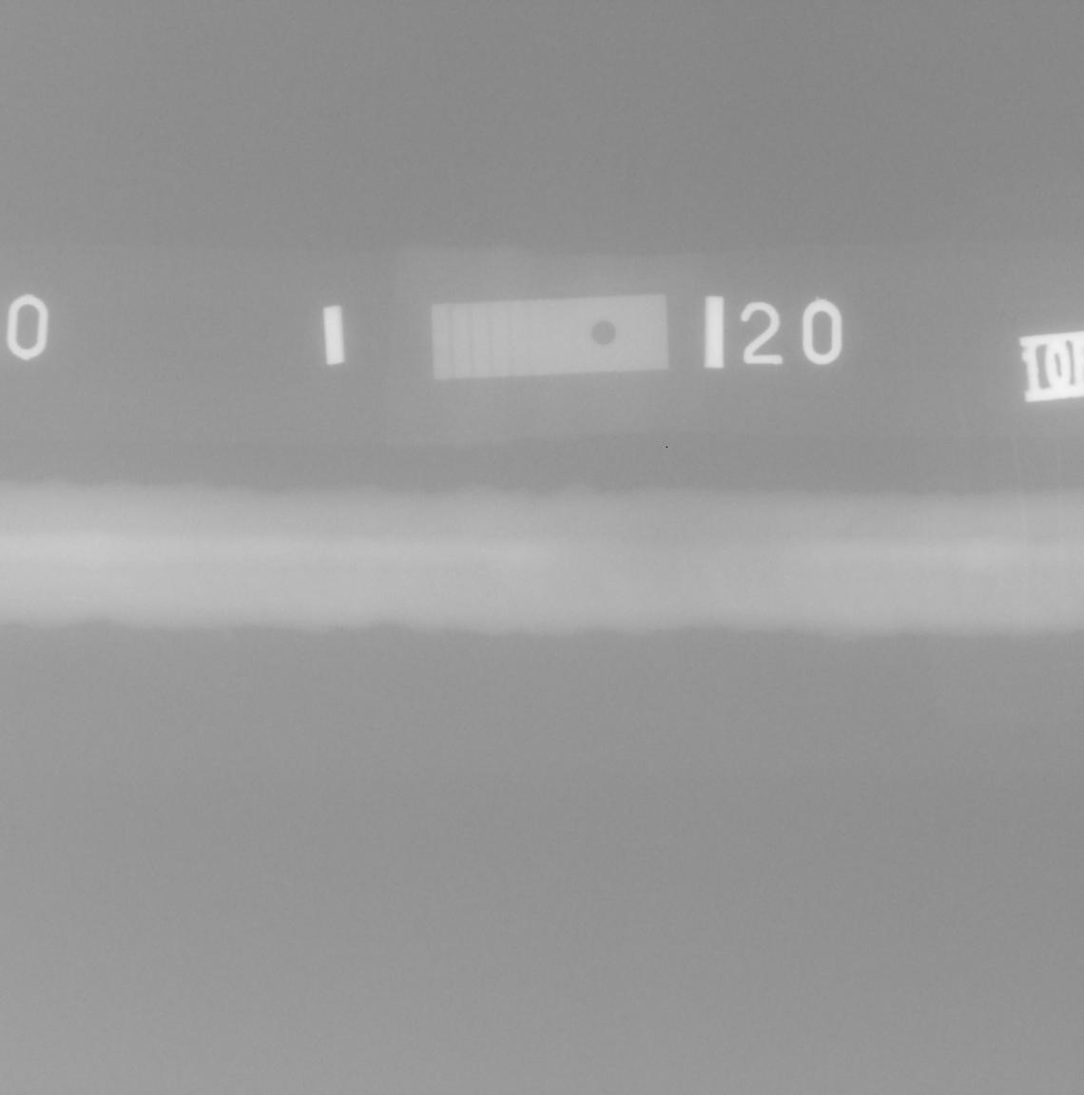Reference Standard 1: (430, 294, 668, 379)
